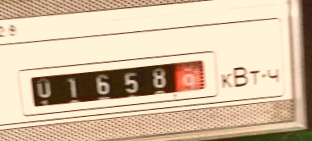0: (33, 75, 53, 98)
1: (63, 73, 80, 99)
5: (121, 68, 140, 94)
6: (92, 70, 113, 96)
8: (149, 65, 168, 89)
9: (179, 69, 197, 92)
screen: (13, 41, 224, 123)
